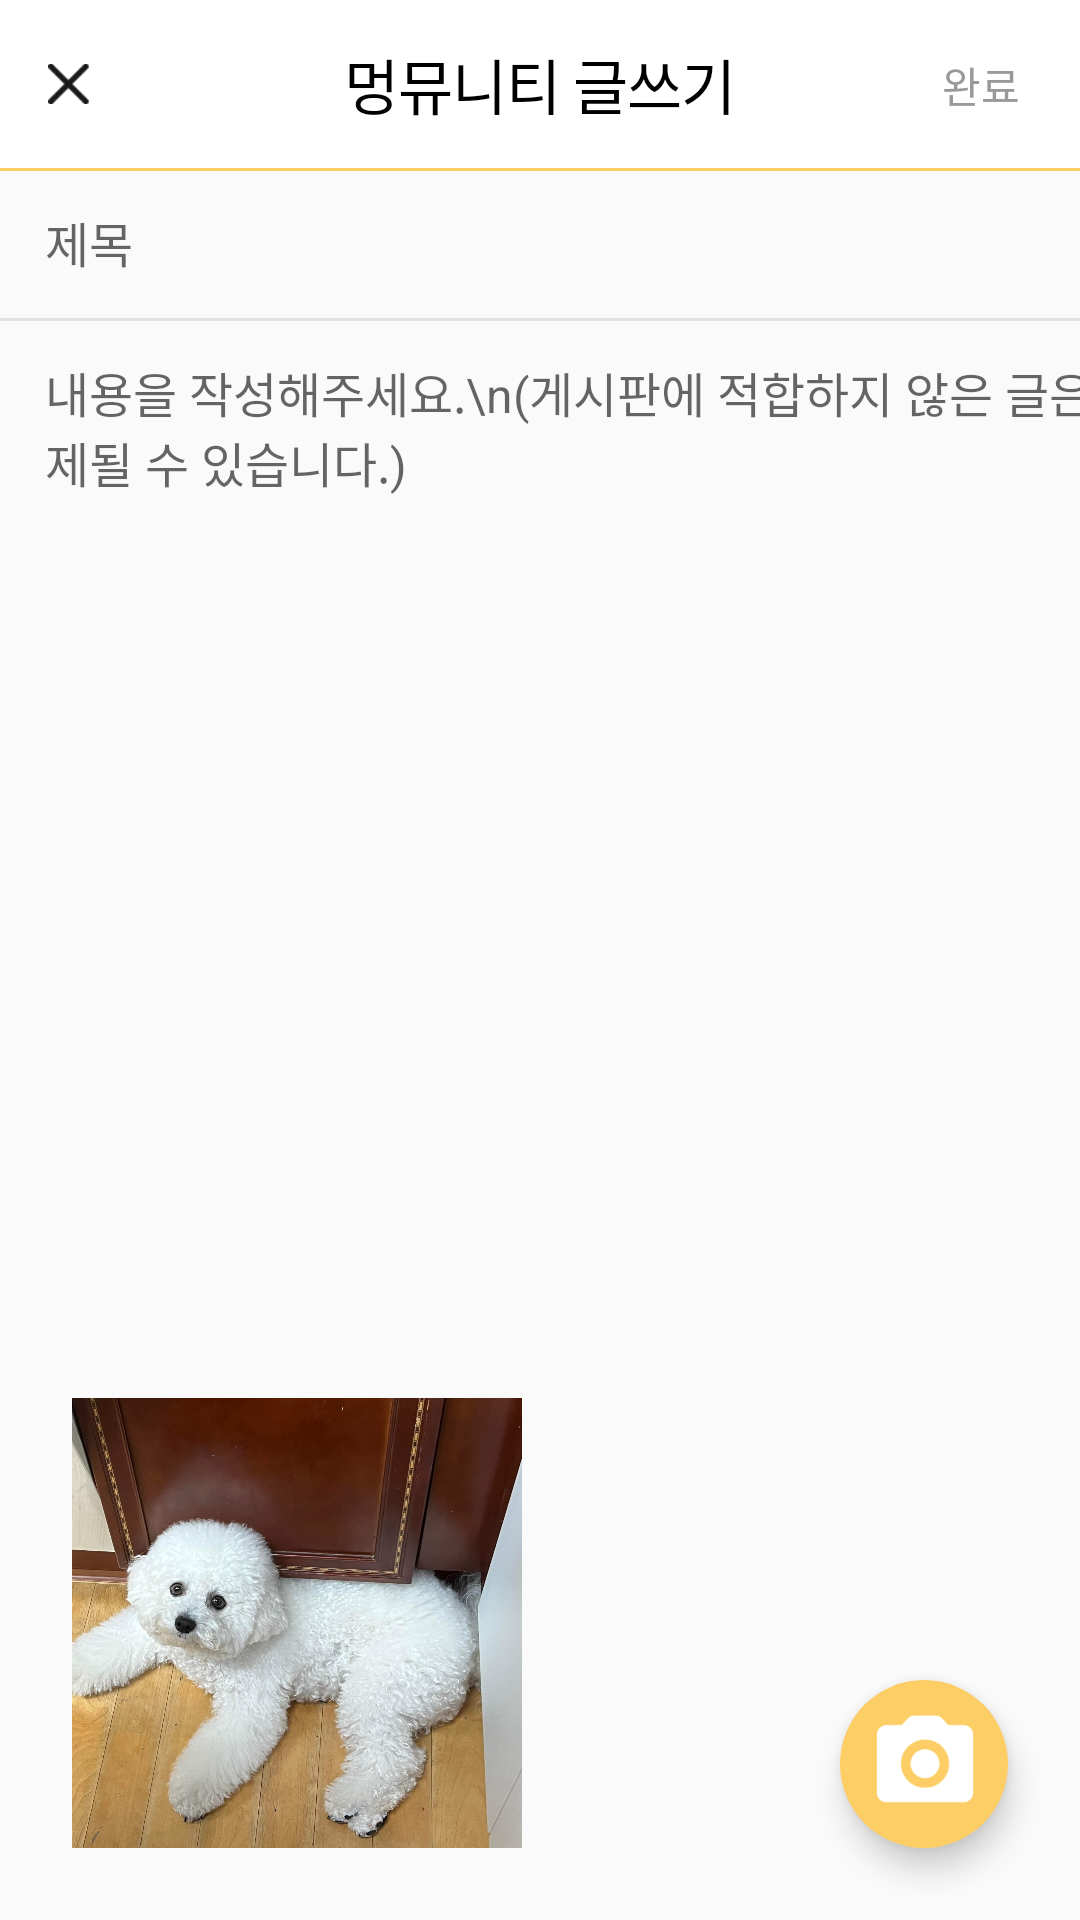

Icons on this 1080×1920 Android screen, each with its box as (x1=x1, y1=y1, x2=x2, y2=y2):
camera: (x1=840, y1=1680, x2=1008, y2=1848)
close notice: (x1=48, y1=64, x2=89, y2=104)
